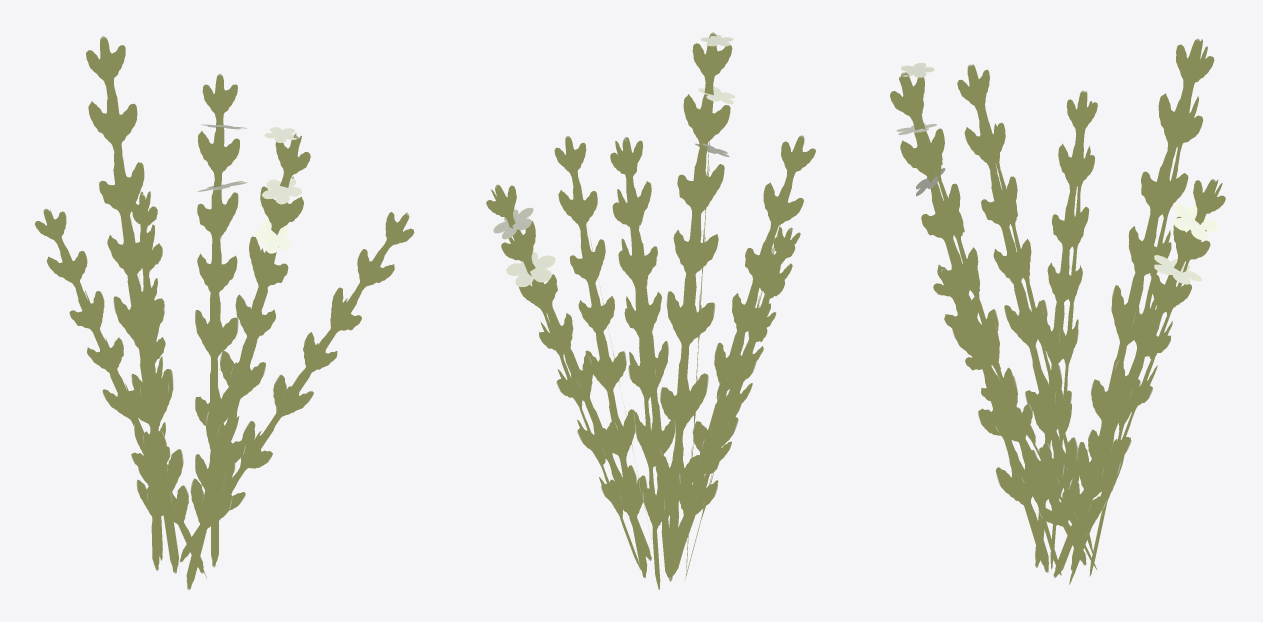
File: Thyme.fbx
The picture shows the model from 3 angles, left to right: view 1: azimuth 30°, elevation 25°; view 2: azimuth 150°, elevation 25°; view 3: azimuth 270°, elevation 25°; orthographic projection. The views are drawn at different scales.
Visible parts, largest first — view 1: polySurface395; view 2: polySurface395; view 3: polySurface395.
Part boxes in pixels (x1,y1,x2,y2): polySurface395: [35, 36, 414, 589]; polySurface395: [486, 32, 815, 589]; polySurface395: [890, 38, 1225, 584].
Size of the model in its own units: 0.4548 by 0.6813 by 0.4162.
